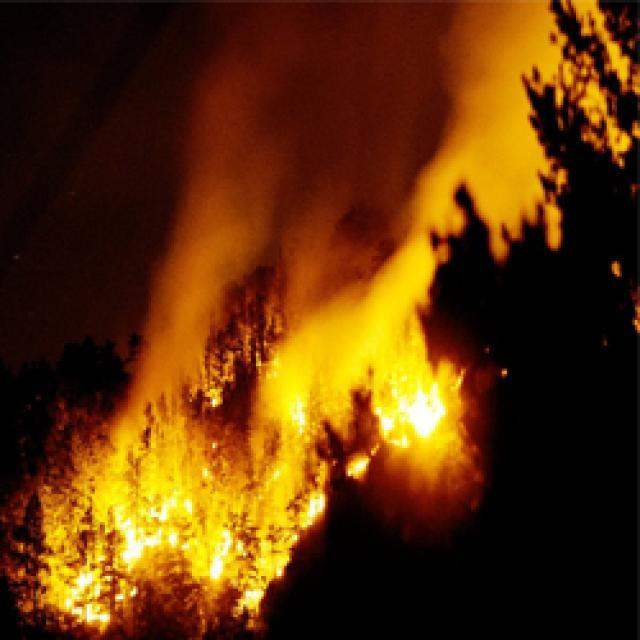Fire: (38, 460, 118, 568), (376, 386, 452, 448), (242, 535, 296, 607), (120, 494, 178, 560), (66, 567, 110, 625), (209, 526, 234, 580), (300, 494, 328, 524), (346, 452, 371, 479)
Smoke: (395, 0, 627, 255), (190, 3, 397, 257), (116, 200, 252, 497), (255, 256, 462, 382), (247, 383, 353, 449)
